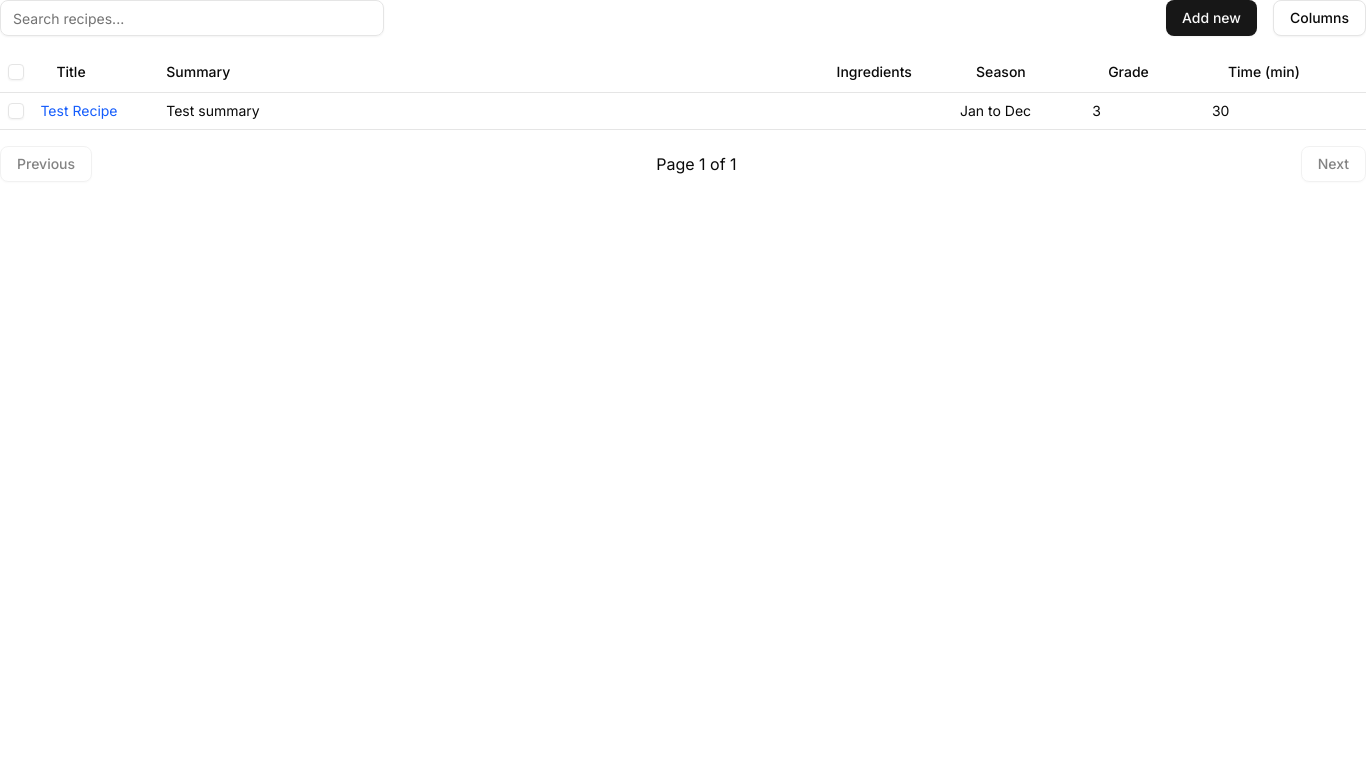
Test case: Recipe Save Functionality (Task 3.5) › Error Alert Feedback › shows generic error message when API response is malformed
# Open sheet and enter edit mode
Click the button "Test Recipe" at (79, 110), box x1=40 y1=100 x2=118 y2=120
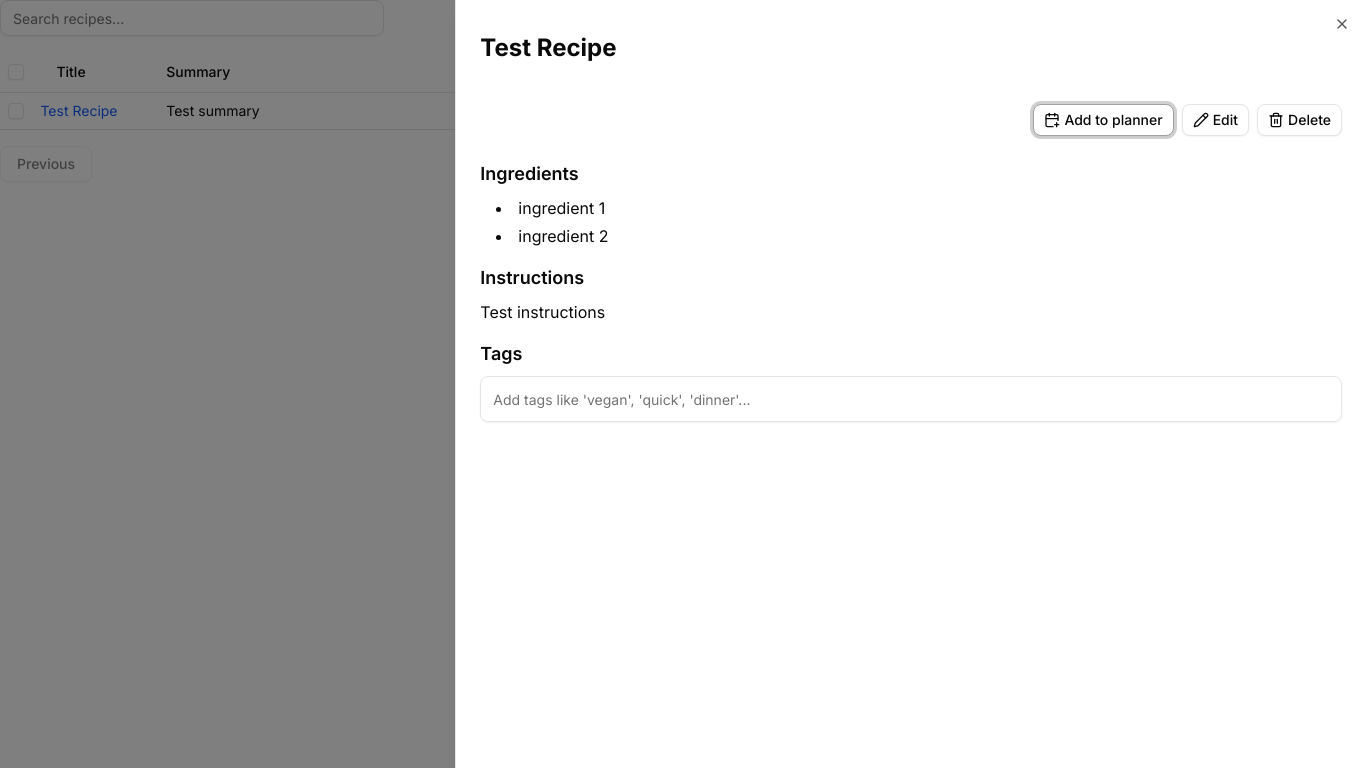
Click the button with aria-label "Edit Recipe" at (1215, 120), box x1=1182 y1=104 x2=1249 y2=136
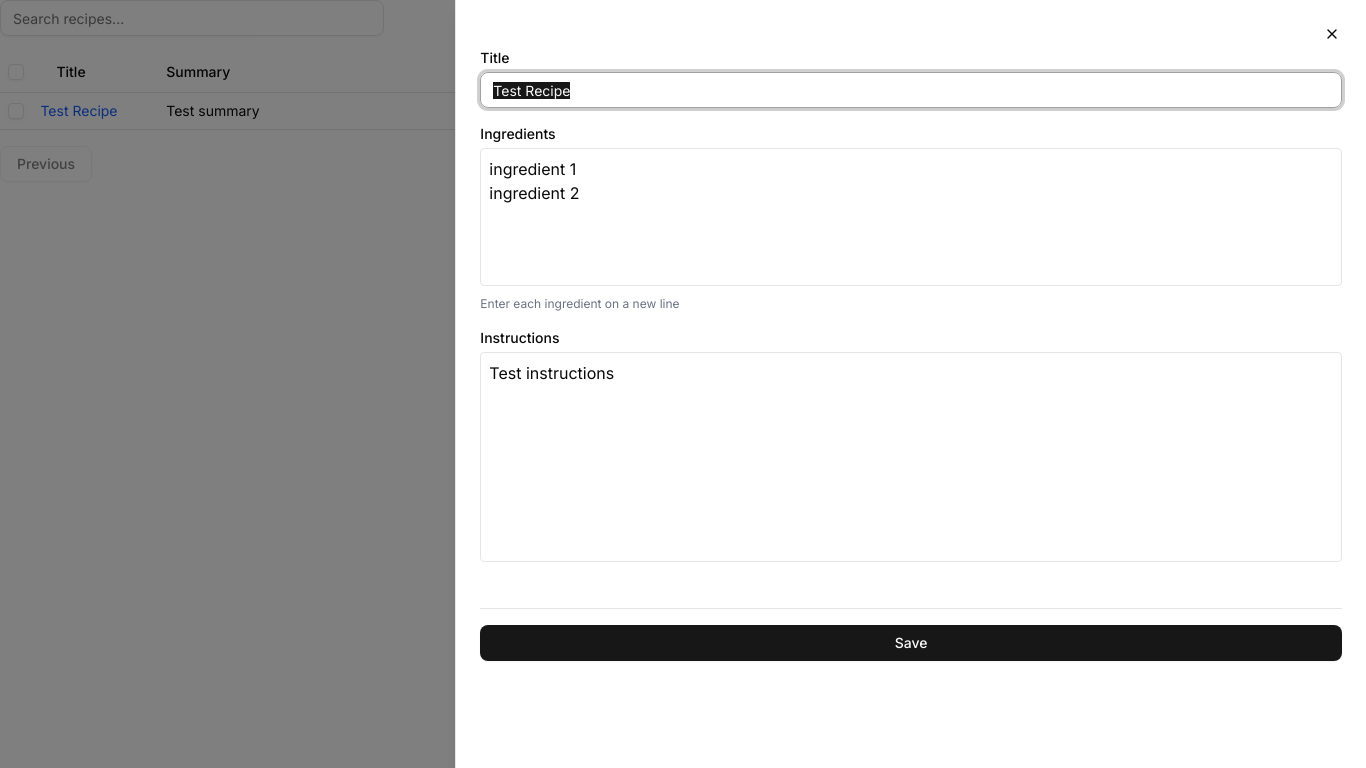
# Save the changes
Click the button "Save" at (911, 643), box x1=480 y1=625 x2=1342 y2=661
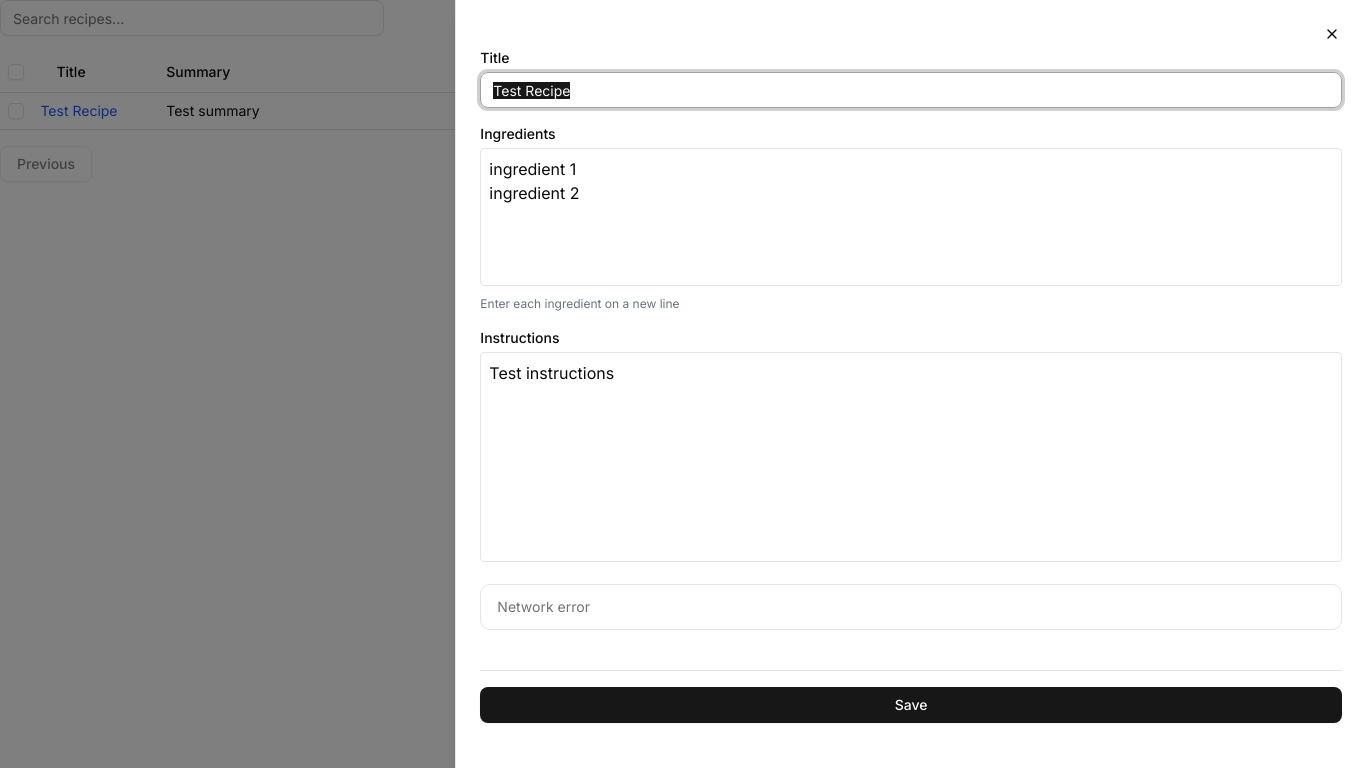
Now the text "Network error" is shown, box x1=497 y1=598 x2=590 y2=615
